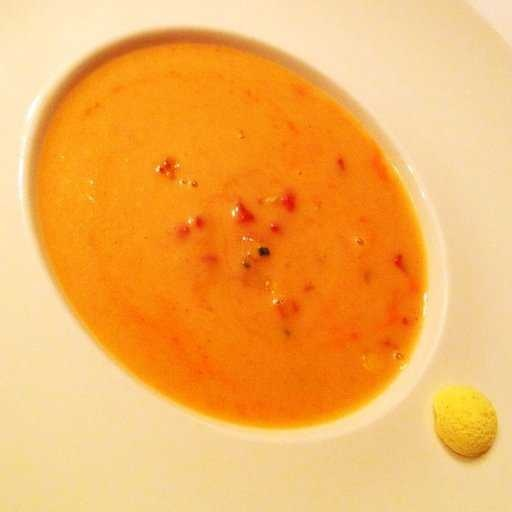soup: (14, 32, 512, 481)
